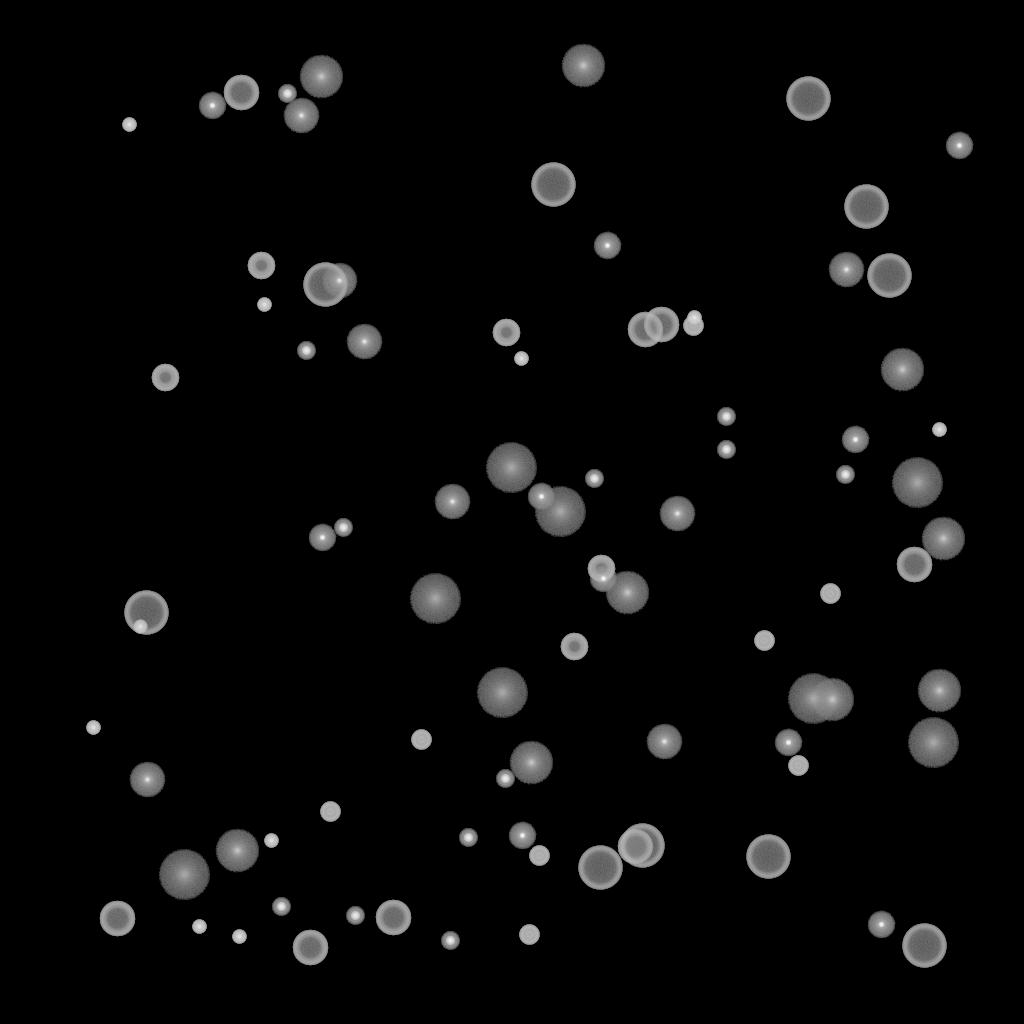depth:-10: (508, 822, 536, 850), (841, 426, 869, 454), (198, 92, 226, 120), (867, 911, 895, 939), (945, 132, 973, 160), (589, 565, 617, 593), (774, 729, 802, 757), (308, 524, 336, 552), (593, 232, 621, 260), (527, 483, 555, 511)
depth:-20: (836, 466, 854, 484), (717, 408, 735, 426), (717, 441, 735, 459), (346, 907, 364, 925), (585, 470, 603, 488), (459, 829, 477, 847), (334, 519, 352, 537), (297, 342, 315, 360), (441, 932, 459, 950), (496, 770, 514, 788), (272, 898, 290, 916), (278, 85, 296, 103)
depth:-30: (232, 930, 246, 944), (932, 423, 946, 437), (687, 311, 701, 325), (122, 118, 136, 132), (514, 352, 528, 366), (257, 298, 271, 312), (192, 920, 206, 934), (133, 620, 147, 634), (264, 834, 278, 848), (86, 721, 100, 735)
depth:-40: (788, 756, 808, 776), (683, 316, 703, 336), (529, 846, 549, 866), (519, 925, 539, 945), (754, 631, 774, 651), (411, 730, 431, 750), (320, 802, 340, 822), (820, 584, 840, 604)
depth:-50: (587, 555, 615, 583), (247, 252, 275, 280), (492, 319, 520, 347), (560, 633, 588, 661), (151, 364, 179, 392)
depth:-60: (292, 930, 328, 966), (617, 829, 653, 865), (643, 307, 679, 343), (99, 901, 135, 937), (223, 75, 259, 111), (627, 312, 663, 348), (375, 900, 411, 936), (896, 547, 932, 583)
depth:-70: (786, 77, 830, 121), (531, 163, 575, 207), (124, 591, 168, 635), (746, 835, 790, 879), (578, 846, 622, 890), (867, 254, 911, 298), (303, 263, 347, 307), (620, 824, 664, 868), (844, 185, 888, 229), (902, 924, 946, 968)
depth:0: (129, 762, 165, 798), (434, 484, 470, 520), (828, 252, 864, 288), (283, 98, 319, 134), (346, 324, 382, 360), (659, 496, 695, 532), (321, 263, 357, 299), (646, 724, 682, 760)
depth:10: (561, 44, 605, 88), (921, 517, 965, 561), (917, 669, 961, 713), (810, 678, 854, 722), (605, 571, 649, 615), (880, 348, 924, 392), (299, 55, 343, 99), (509, 741, 553, 785), (215, 829, 259, 873)
depth:20: (409, 574, 461, 624), (891, 458, 943, 508), (907, 718, 959, 768), (158, 850, 210, 900), (485, 443, 537, 493), (534, 487, 586, 537), (787, 674, 839, 724), (476, 668, 528, 718)
